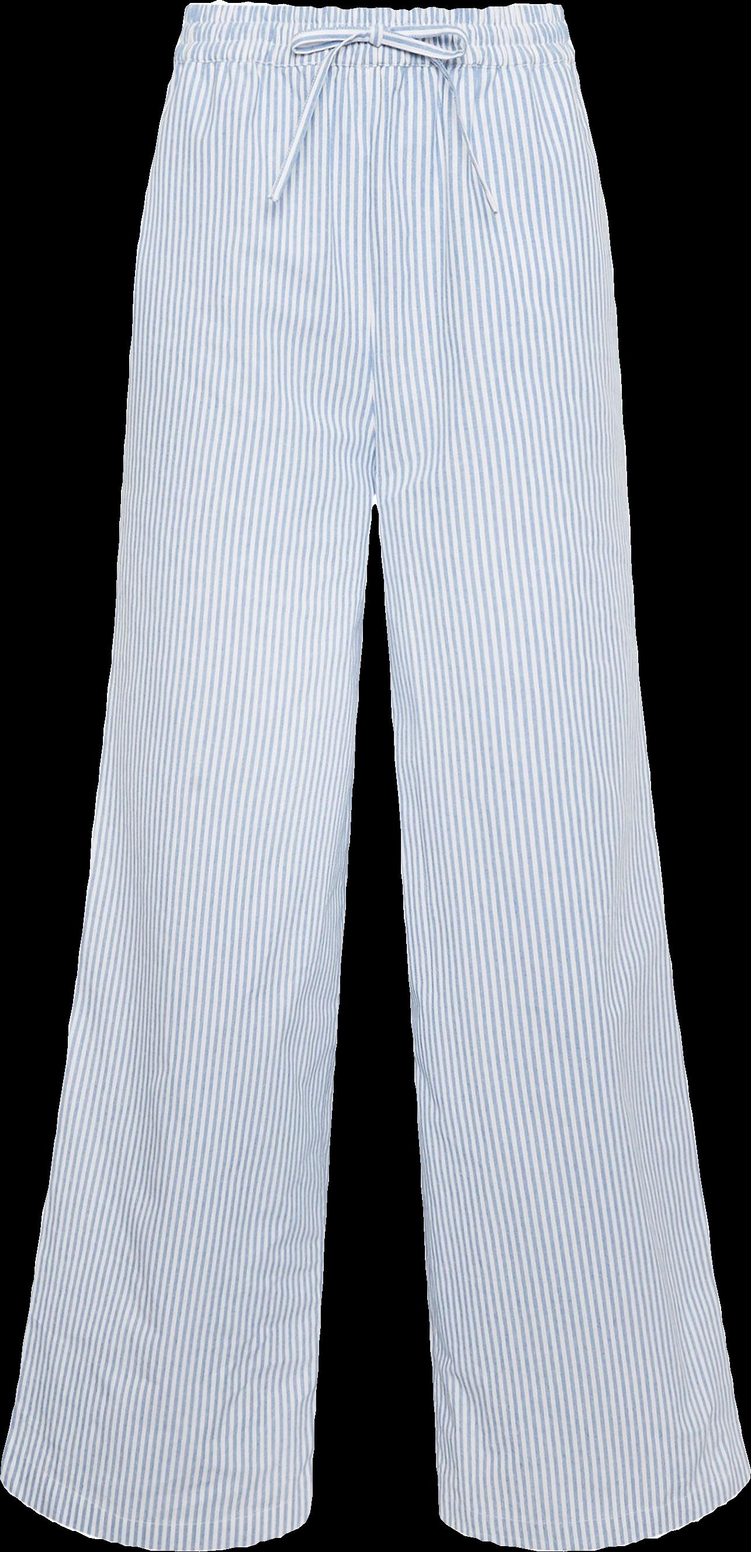Hemline: (431, 1468, 750, 1551), (0, 1469, 316, 1551)
Pantleg: (367, 2, 750, 1548), (1, 0, 371, 1548)
Waistline: (172, 47, 583, 88), (182, 0, 560, 28)
